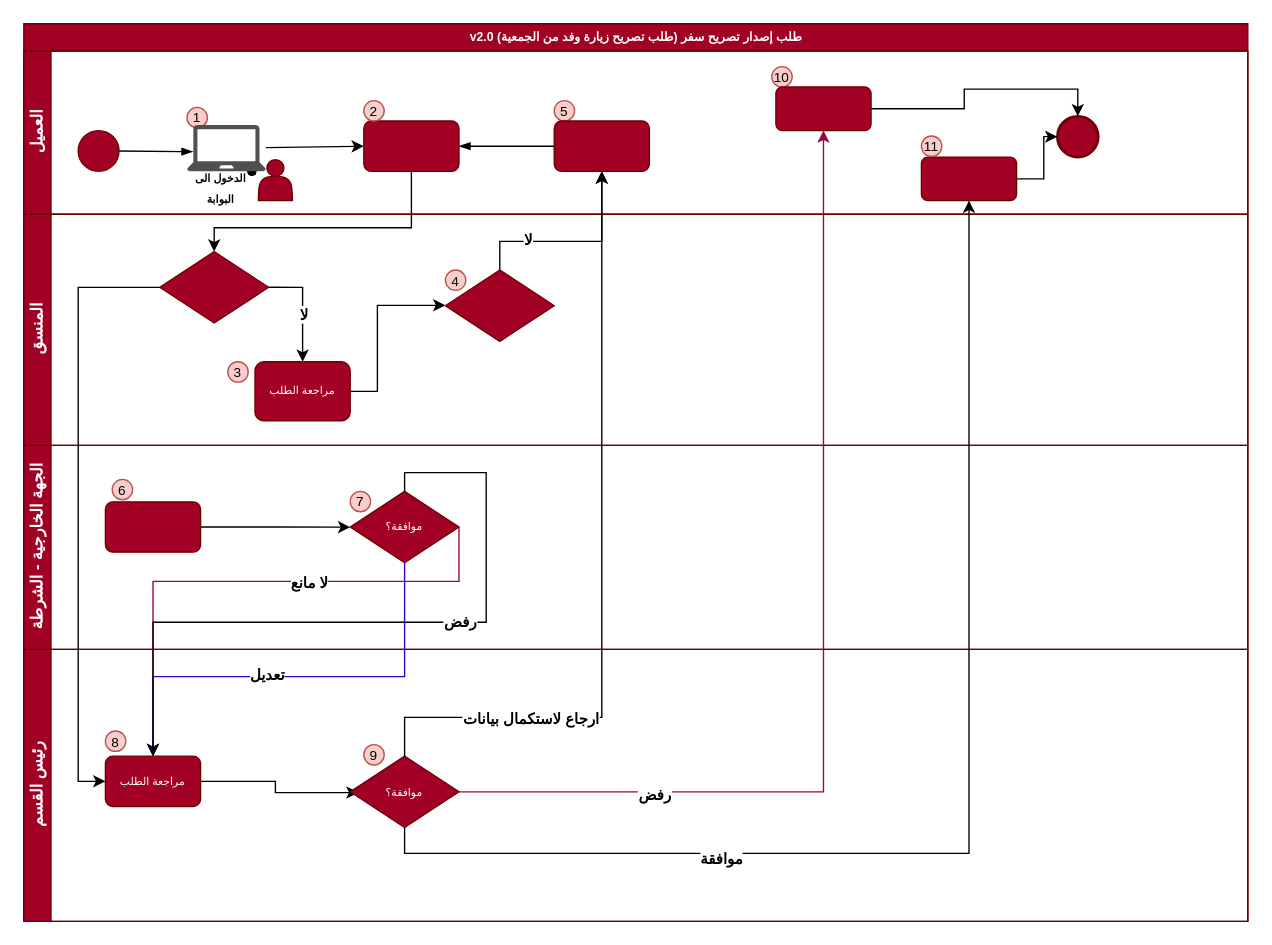
This 1272x945 diagram has some shape labels left out. Here are the shapes that lost their labels. From the top down, the centre of each, then its label:
At point 823,108: "ارسال رسالة إعتذار".
At point 98,150: "بداية".
At point 410,145: "تعبئة وتقديم نموذج الطلب".
At point 601,145: "استكمال البيانات المطلوبة و اعادة الارسال".
At point 1077,136: "اغلاق".
At point 968,178: "بإرسال رسالة الاعتماد عن طريق بريد إلكتروني إلى العميل".
At point 213,286: "من رئيس القسم؟ في حال مرجع من رئيسر القسم".
At point 499,305: "الطلب مكتمل؟".
At point 152,526: "مراجعة الطلب و اعطاء التوصيات".
